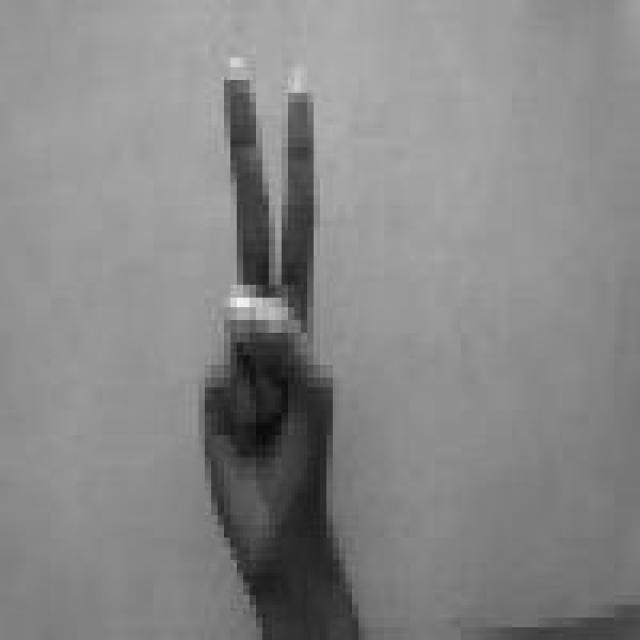V: (179, 55, 368, 582)
